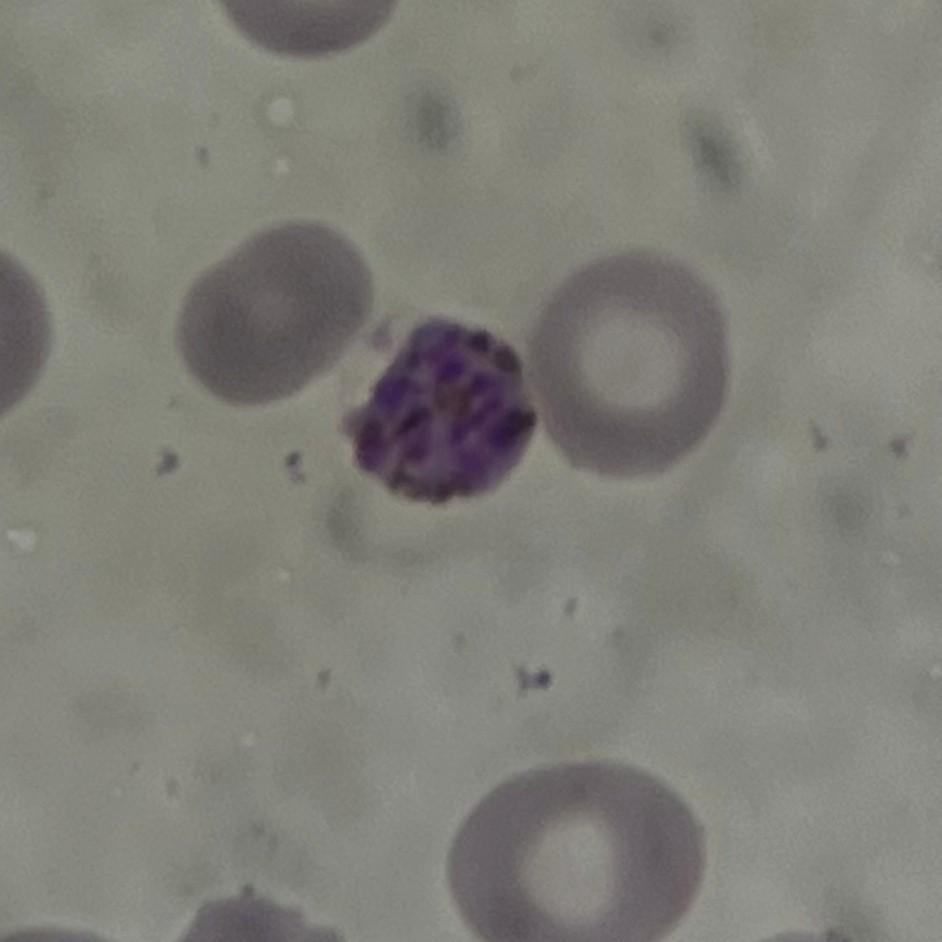Infected: (348, 313, 537, 508)
Uninfected: (450, 759, 705, 942), (534, 251, 733, 481), (174, 221, 382, 405)
